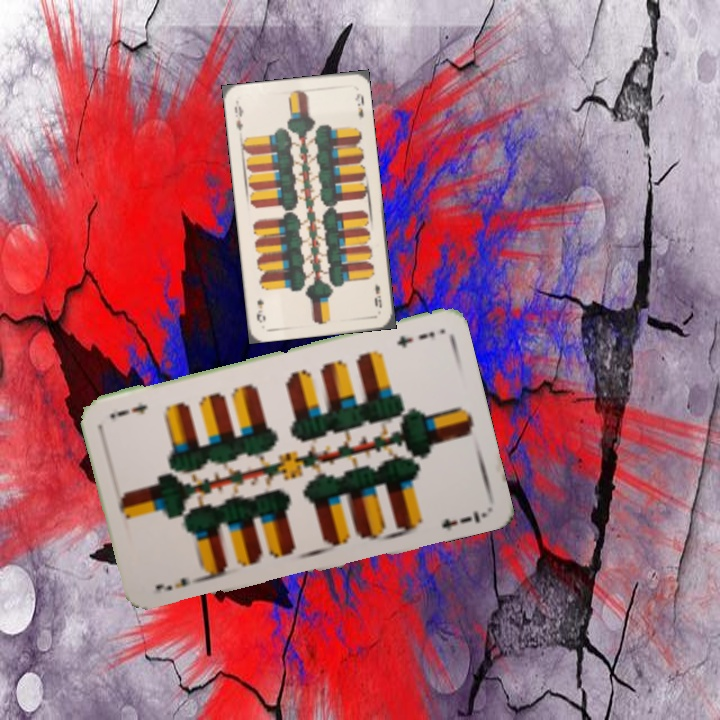E7: (151, 572, 206, 593), (393, 327, 437, 351)
E9: (230, 98, 246, 133), (370, 279, 385, 310)
